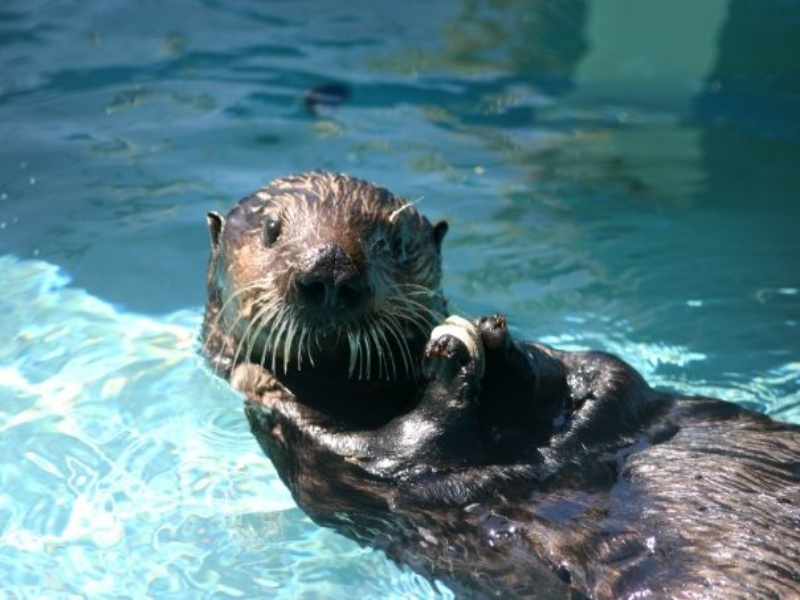minkish: (190, 169, 788, 580)
